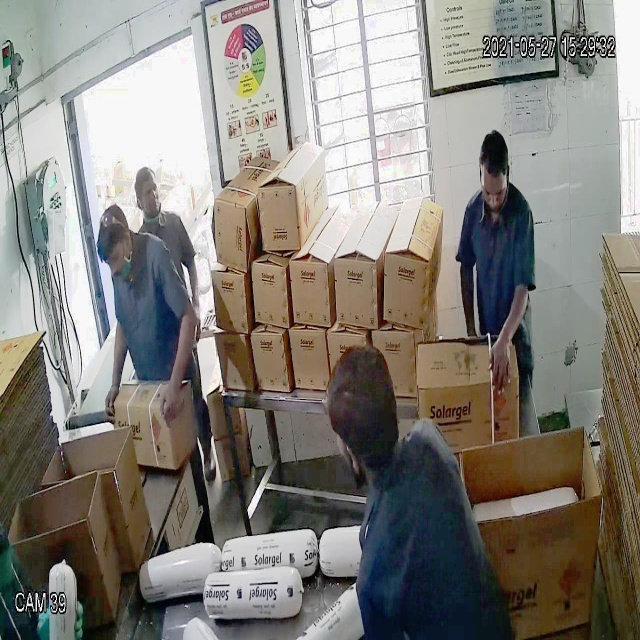Sin_gafas: (96, 241, 130, 270), (480, 179, 512, 204)
